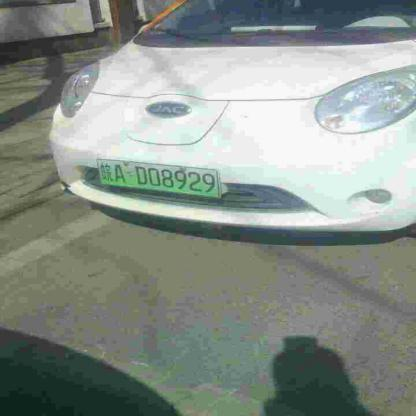lp: (96, 160, 218, 198)
